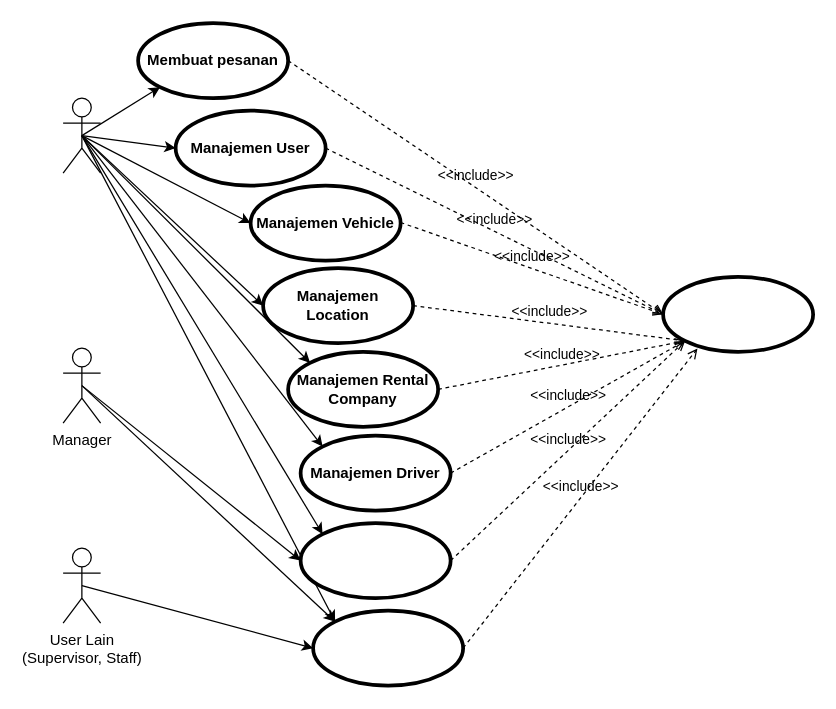
Image size: 836x709. Some labels were removed from this diagram. The centre of each missing label's shape, as x and y in pixels:
"Admin" goes at pixel 81 135.
"Export Report" goes at pixel 375 560.
"Login" goes at pixel 737 313.
"Melakukan Approval" goes at pixel 387 647.
